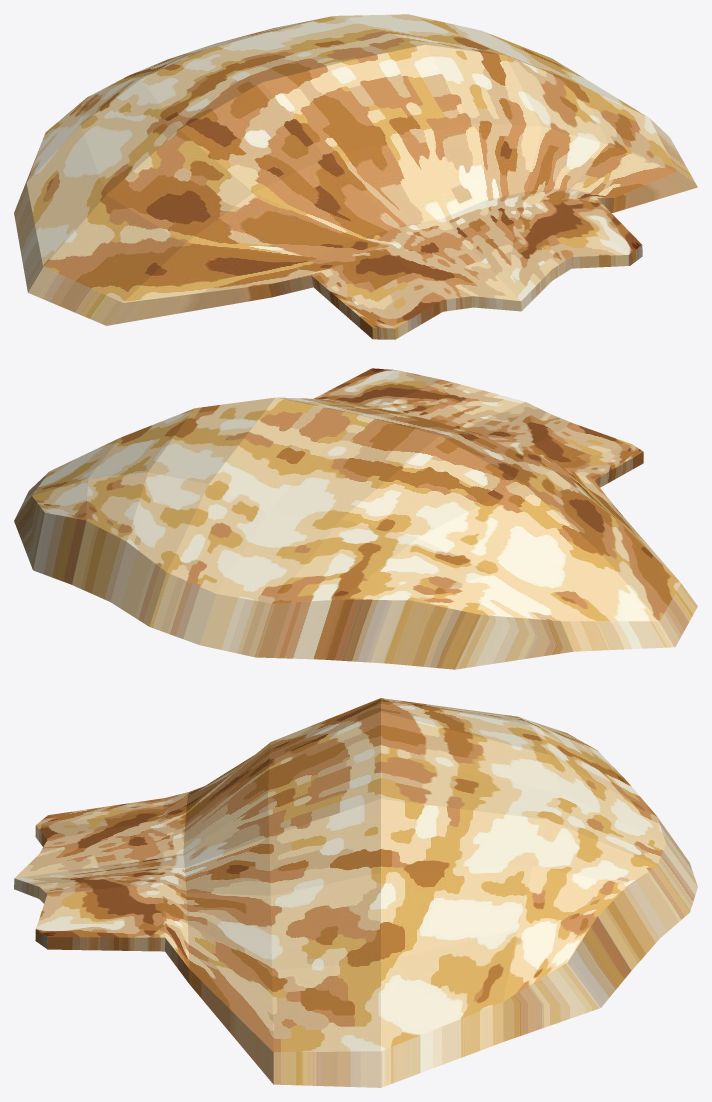
File: seashells.fbx
3 renders of one model, top to bottom at view 1: azimuth 30°, elevation 25°; view 2: azimuth 150°, elevation 25°; view 3: azimuth 270°, elevation 25°, orthographic. The views are drawn at different scales.
Parts seen in each view (by area): view 1: Plane; view 2: Plane; view 3: Plane.
Part boxes in pixels (<box>): Plane: <box>14,14,697,339</box>; Plane: <box>14,368,697,669</box>; Plane: <box>14,698,697,1087</box>.
Size of the model in its own units: 336 by 81.4 by 291.
